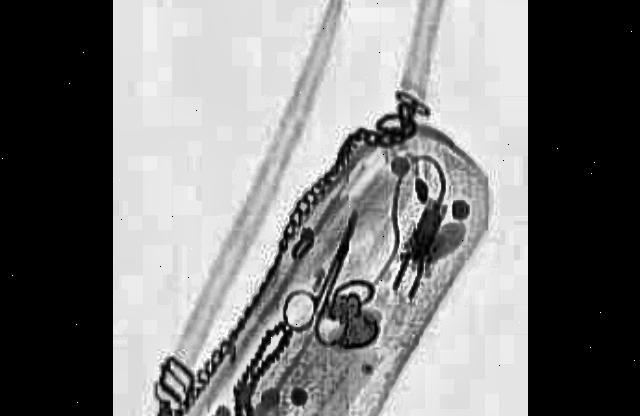Scissors: (276, 182, 374, 366)
